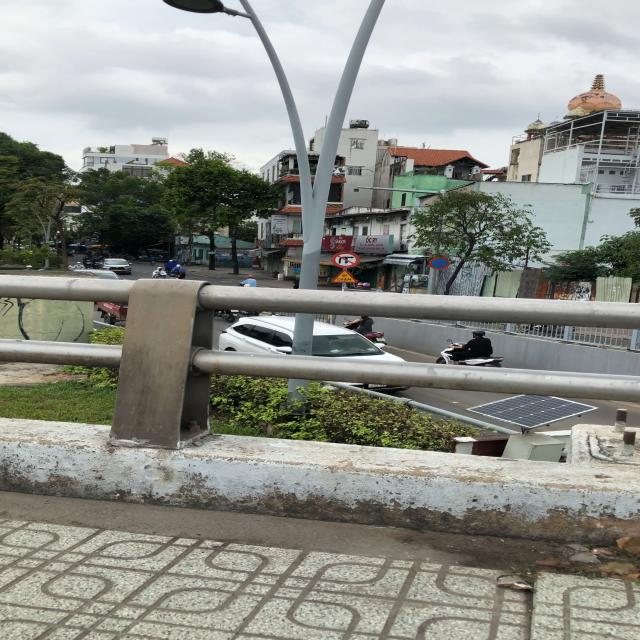Bien bao cam re phai va quay dau: (331, 250, 361, 269)
